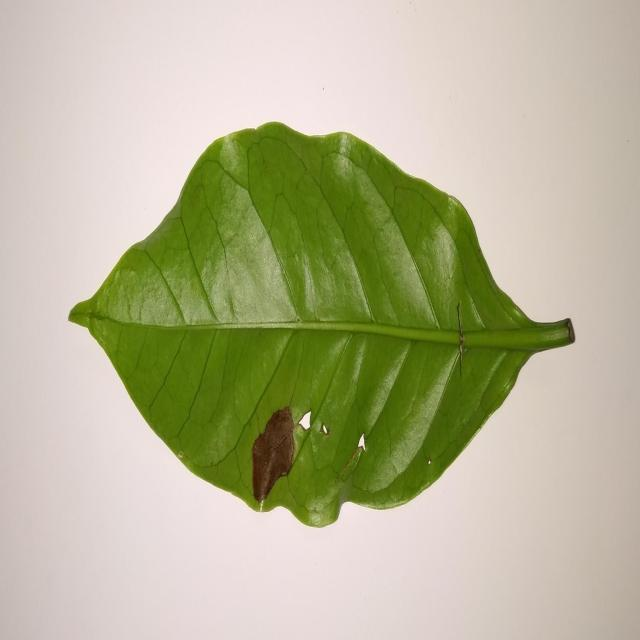Enfermedad-Antracnosis: (67, 122, 576, 531)
